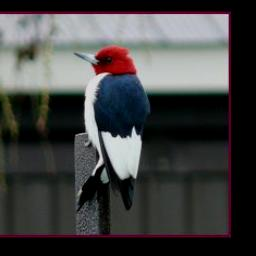Woodpecker: (72, 40, 151, 216)
